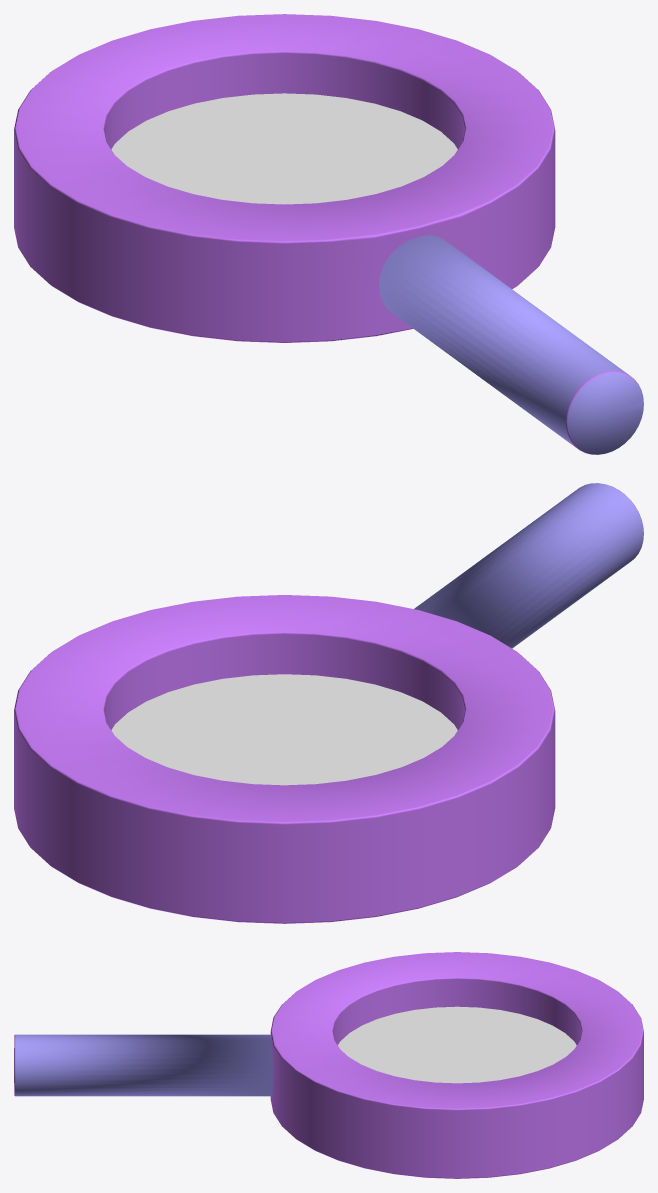
File: MagnifyGlass.fbx
The picture shows the model from 3 angles, top to bottom: view 1: azimuth 30°, elevation 25°; view 2: azimuth 150°, elevation 25°; view 3: azimuth 270°, elevation 25°; orthographic projection. The views are drawn at different scales.
Visible parts, largest first — view 1: Enclosure, TopGlass; view 2: Enclosure, TopGlass; view 3: Enclosure, TopGlass.
Part boxes in pixels (bbox=[...]): Enclosure: bbox=[14, 14, 643, 454]; TopGlass: bbox=[111, 93, 457, 204]; Enclosure: bbox=[14, 483, 643, 923]; TopGlass: bbox=[111, 674, 457, 785]; Enclosure: bbox=[14, 952, 643, 1178]; TopGlass: bbox=[338, 1006, 576, 1083].
Size of the model in its own units: 240 by 50 by 405.
